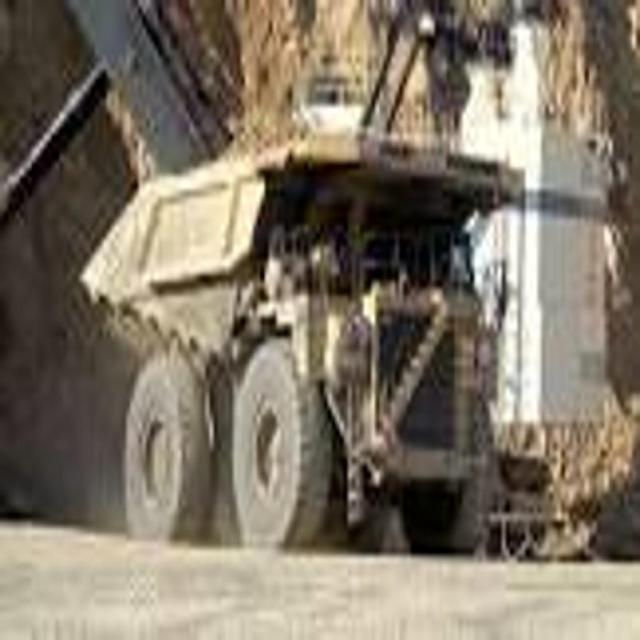dump_truck: (83, 89, 510, 601)
